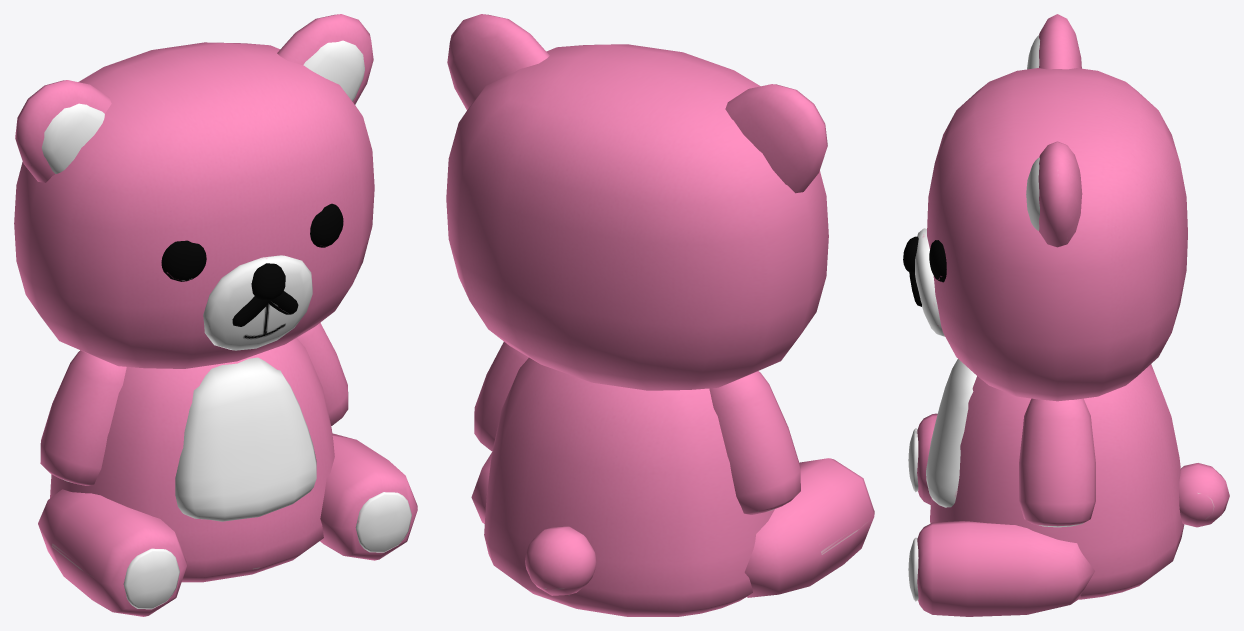
Rendered from teddy bear1.fbx.
3 renders of one model, left to right at view 1: azimuth 30°, elevation 25°; view 2: azimuth 150°, elevation 25°; view 3: azimuth 270°, elevation 25°, orthographic. The views are drawn at different scales.
Visible parts, largest first — view 1: Teddy_Bear_1.001; view 2: Teddy_Bear_1.001; view 3: Teddy_Bear_1.001.
Boxes of the visible parts, left/top/right/bottom form: Teddy_Bear_1.001: left=14, top=14, right=417, bottom=616; Teddy_Bear_1.001: left=446, top=14, right=874, bottom=616; Teddy_Bear_1.001: left=903, top=14, right=1229, bottom=616.
Bounding box in the file's own units: 164 × 217 × 135.
1 material, 1 textured.
